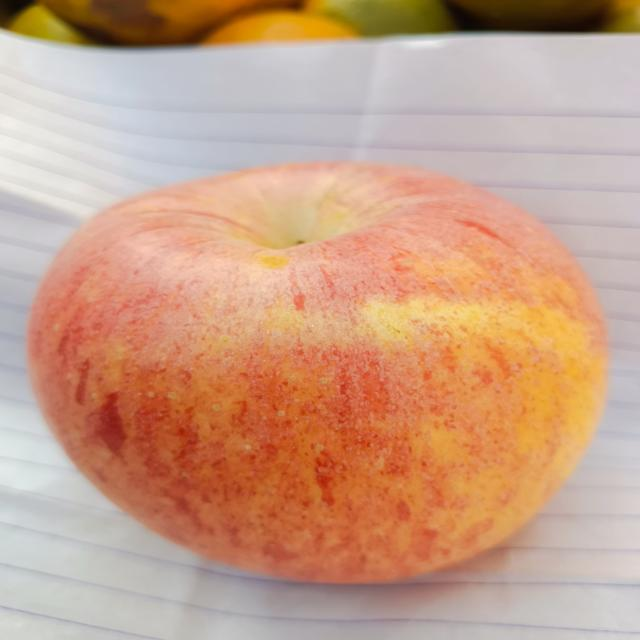Fresh Apple: (49, 168, 598, 568)
